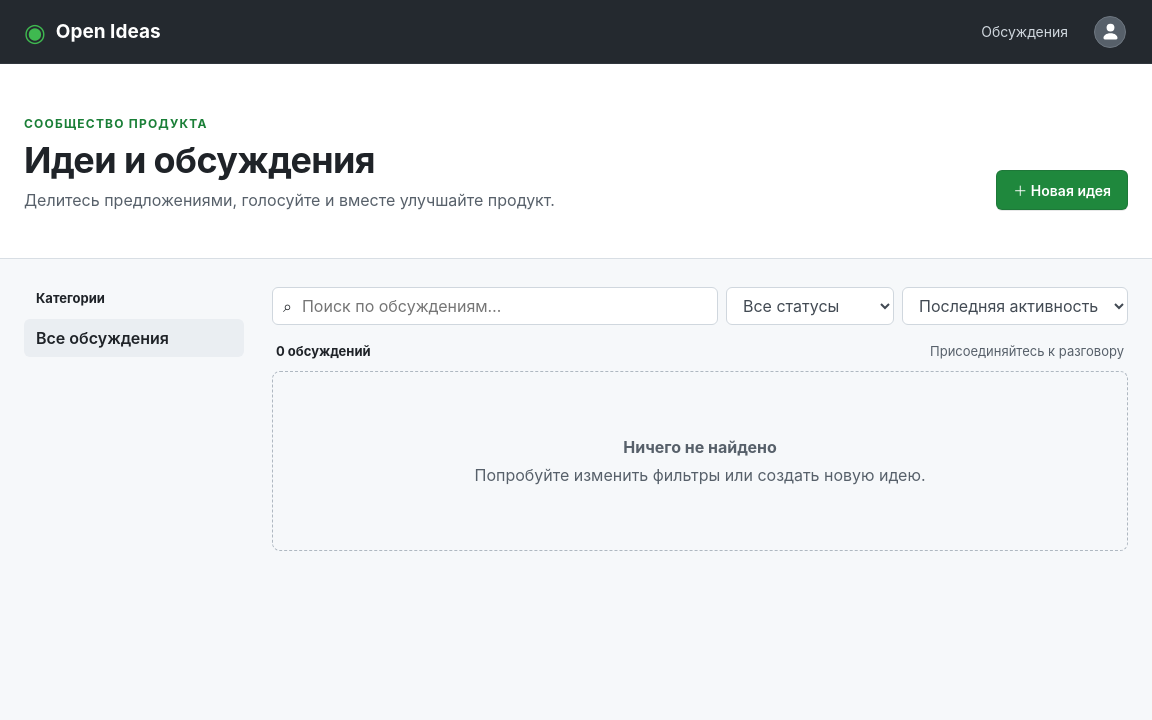
authenticated header › shows the user menu with profile and sign out actions
Expected: the icon is shown, [1100, 21, 1120, 42]
Expected: the link "Профиль" is not shown
Click the button named "Открыть меню пользователя Тестовый пользователь".
click(1110, 32)  # box [1092, 14, 1128, 50]
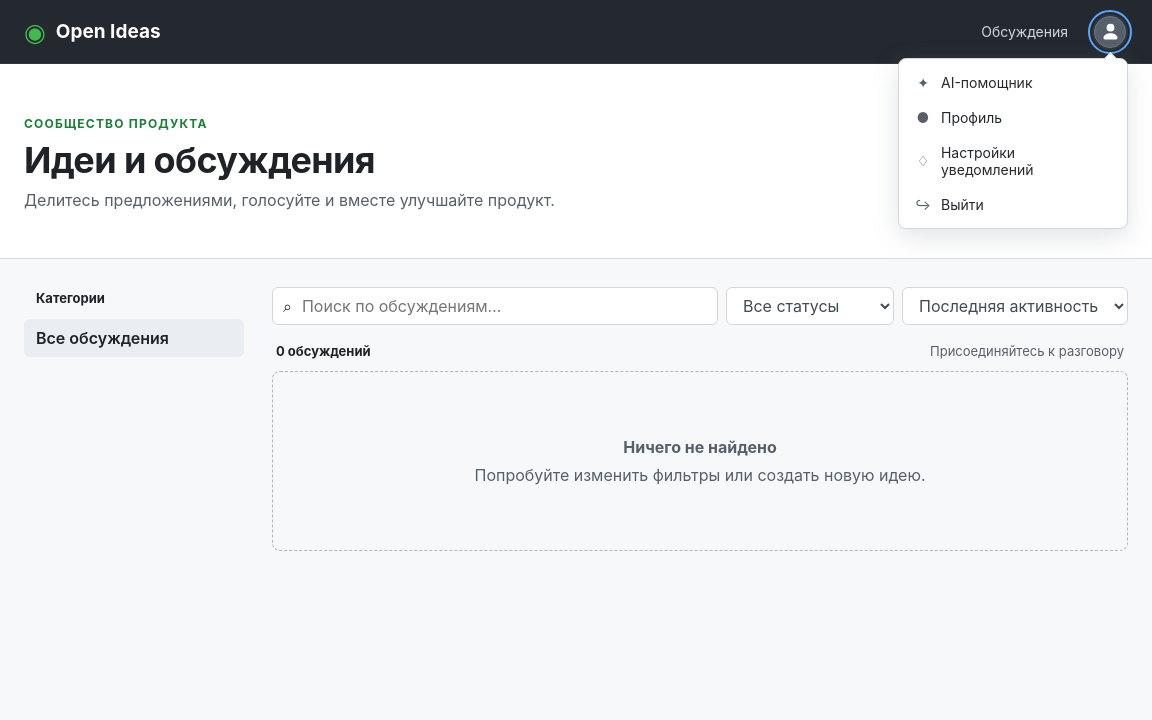
Expected: the link "Войти" is not shown
Now the menu named "Меню пользователя" is shown, box [898, 58, 1128, 228]
Click the menu item "↪ Выйти".
click(1013, 204)  # box [905, 186, 1121, 222]
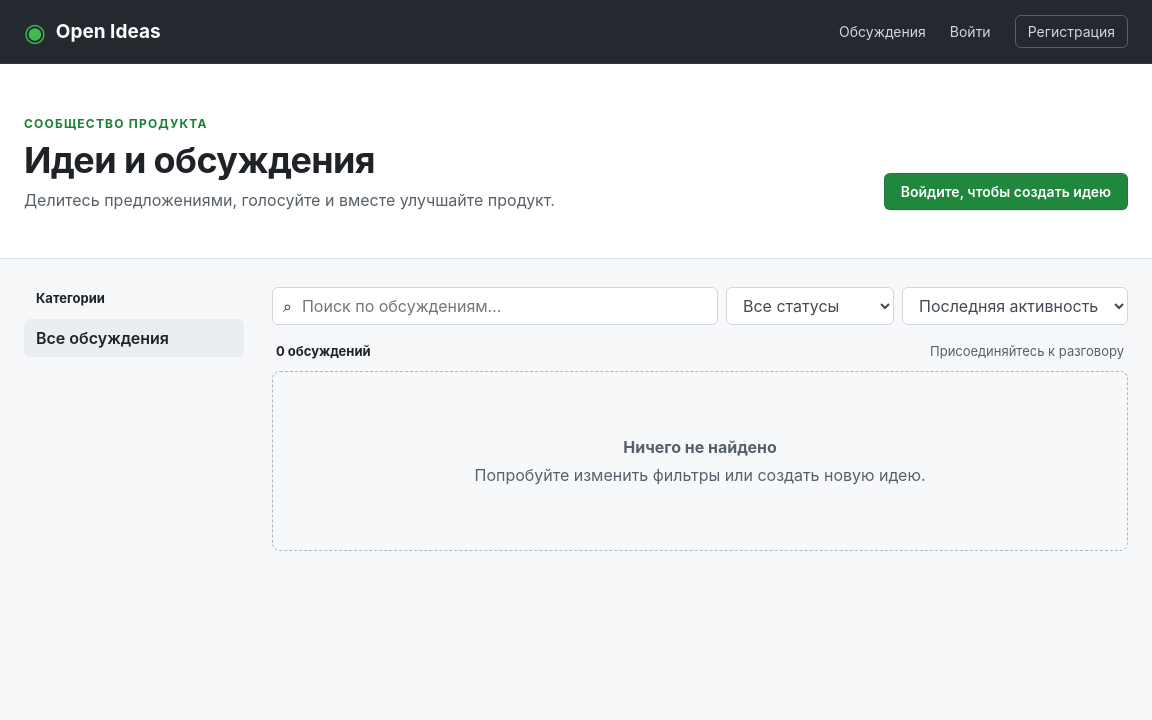
Now the link "Войти" is shown, box [950, 23, 991, 40]
